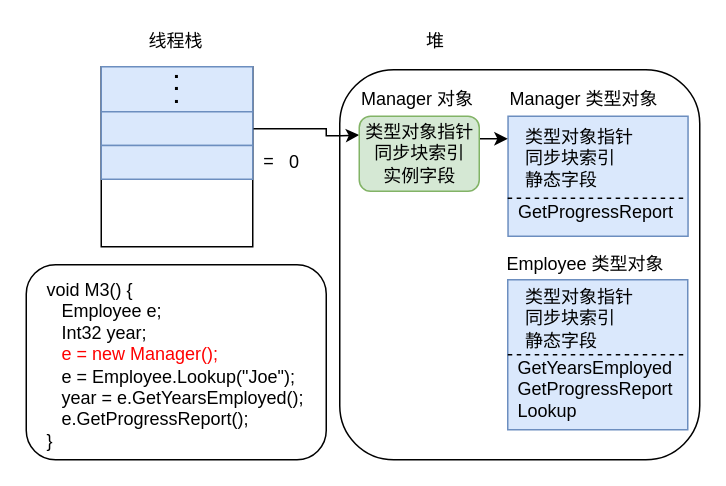
Some shapes in this 726 by 486 pixel diagram are drawn without their labels. Here are the shapes that lost their labels. From the top down, the centre of each, then its label:
At (176,128): "e(Employee)".
At (176,161): "year(Int32)".
